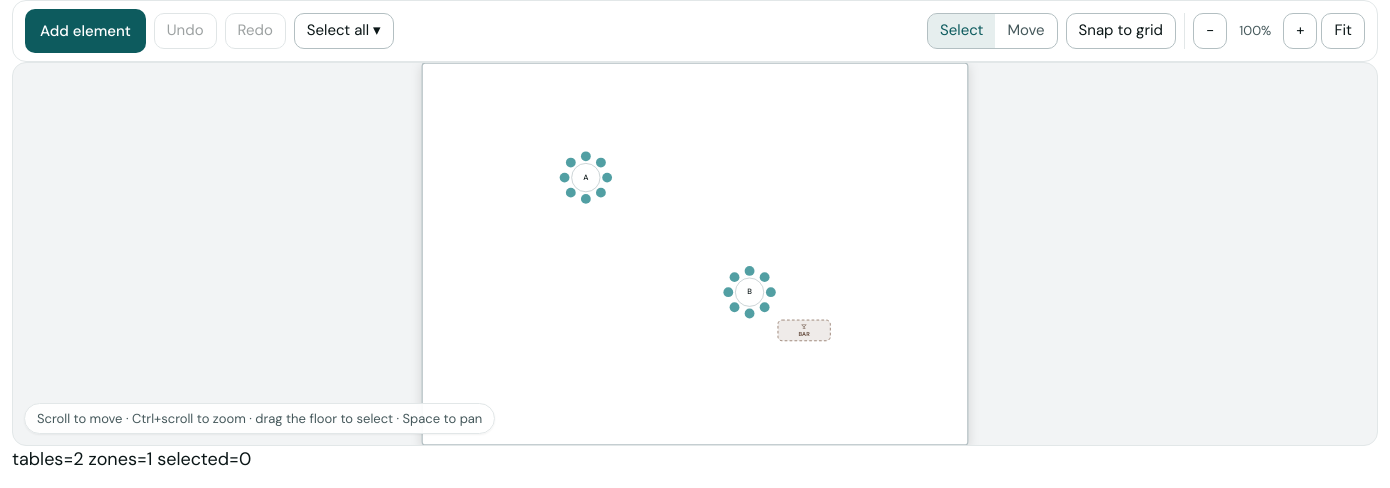
Test: Select all, narrowed › "Everything" takes tables and zones alike
Click the button "Select all ▾" at (344, 31), box x1=294 y1=13 x2=394 y2=49
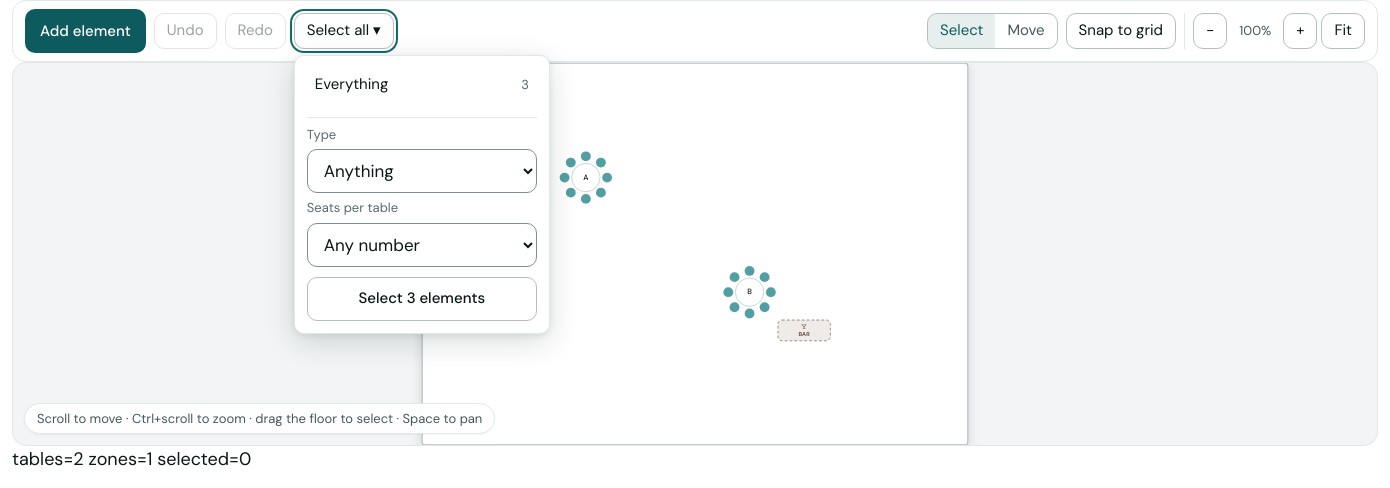
Click the button "Everything 3" at (422, 84), box x1=307 y1=68 x2=537 y2=101
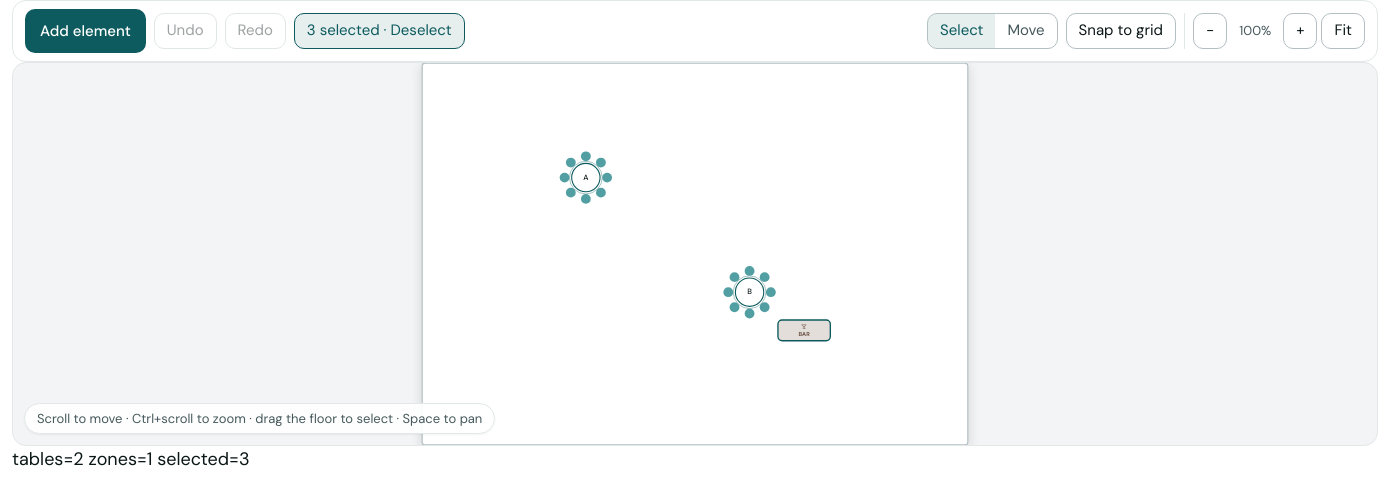
Expected: the text with test id "state" shows "selected=3", x1=12 y1=447 x2=250 y2=471
